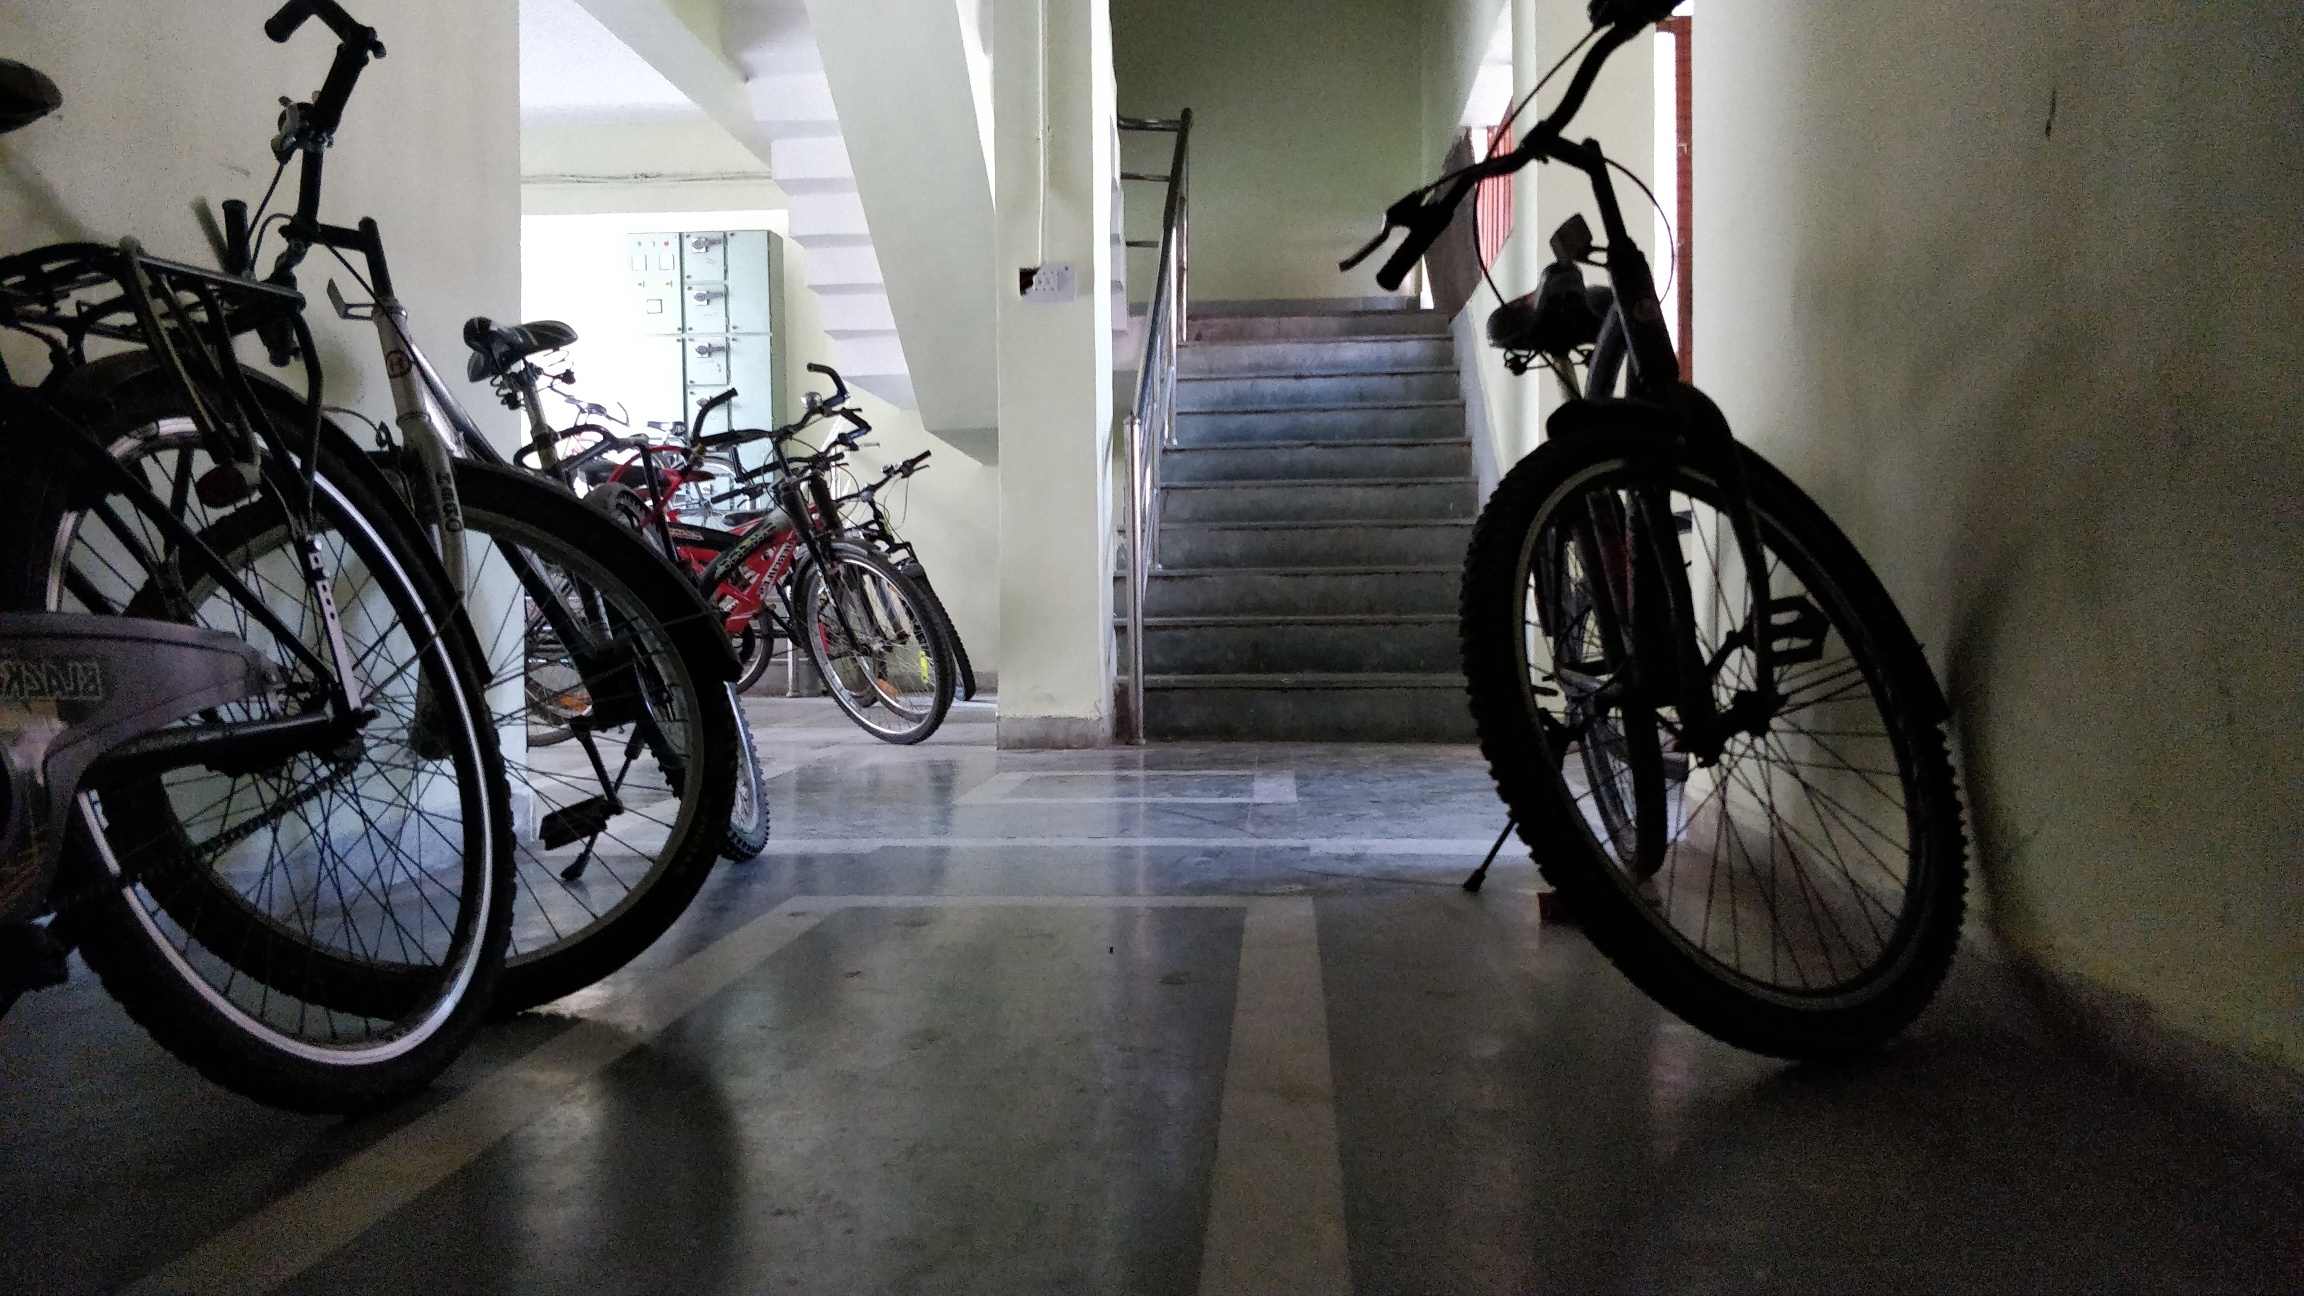stairs_up: (1128, 307, 1505, 739)
